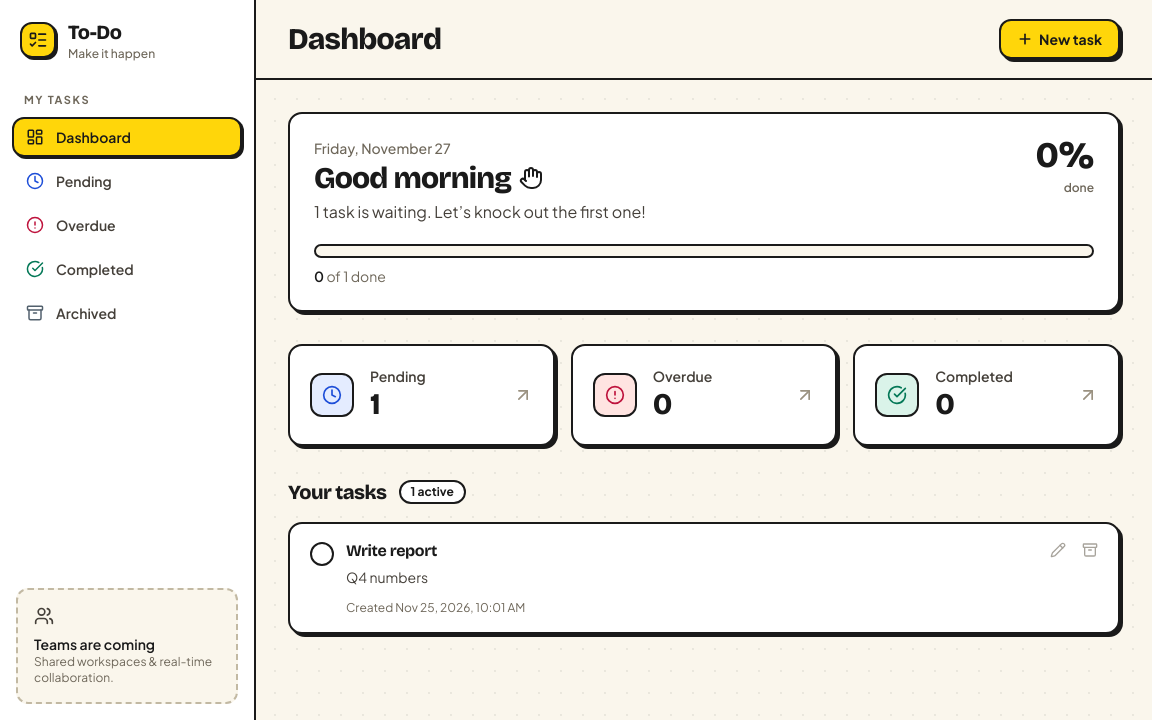
Test: editing a task › saves changes, updates the card and shows an "Edited" time
Expected: the heading "Write report" is shown, top-left (346, 540), bottom-right (437, 560)
Click the button named "Edit \"Write report\"" at (1058, 550), box top-left (1042, 534), bottom-right (1074, 566)
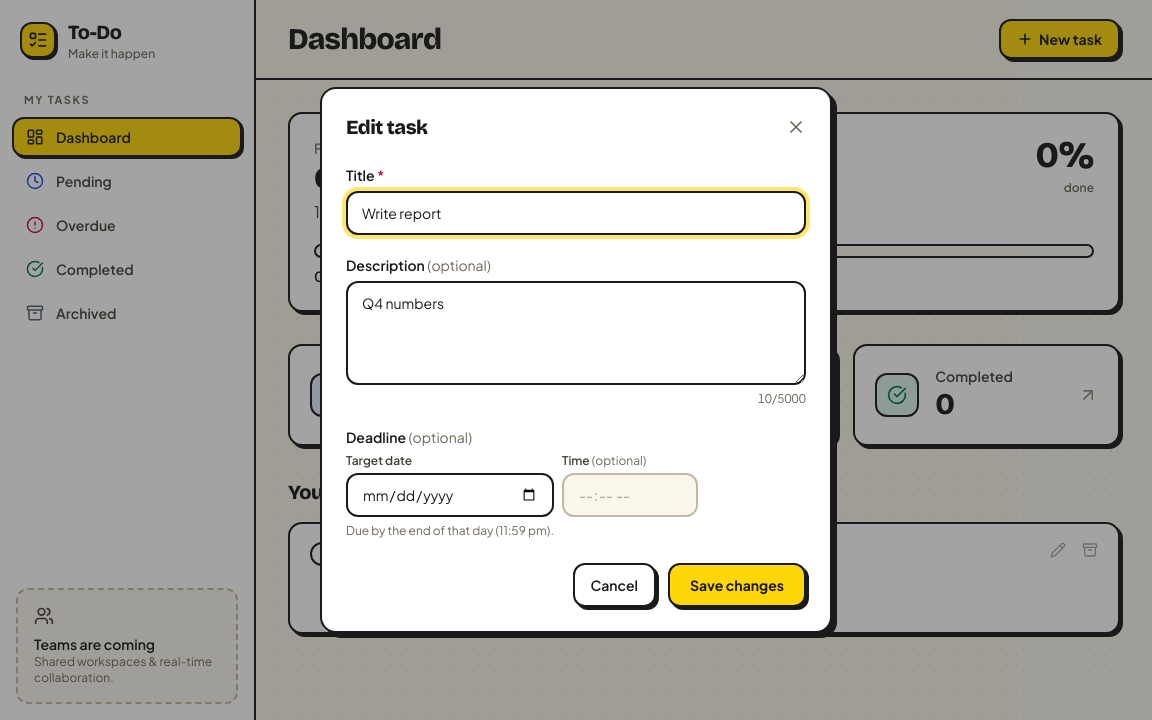
Replace the text in the field labelled "Title *" with "Write final report" at (576, 213), box top-left (346, 191), bottom-right (806, 235)
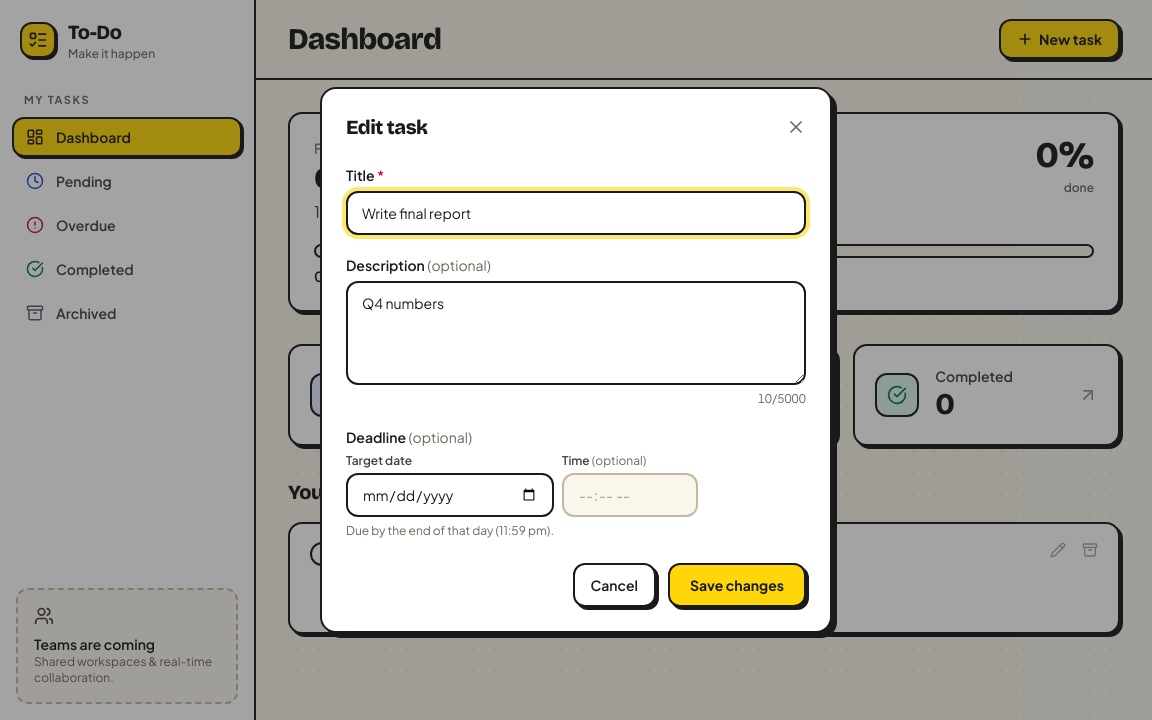
Replace the text in the text box labelled "Description (optional)" with "Q4 numbers + summary" at (576, 333), box top-left (346, 281), bottom-right (806, 385)
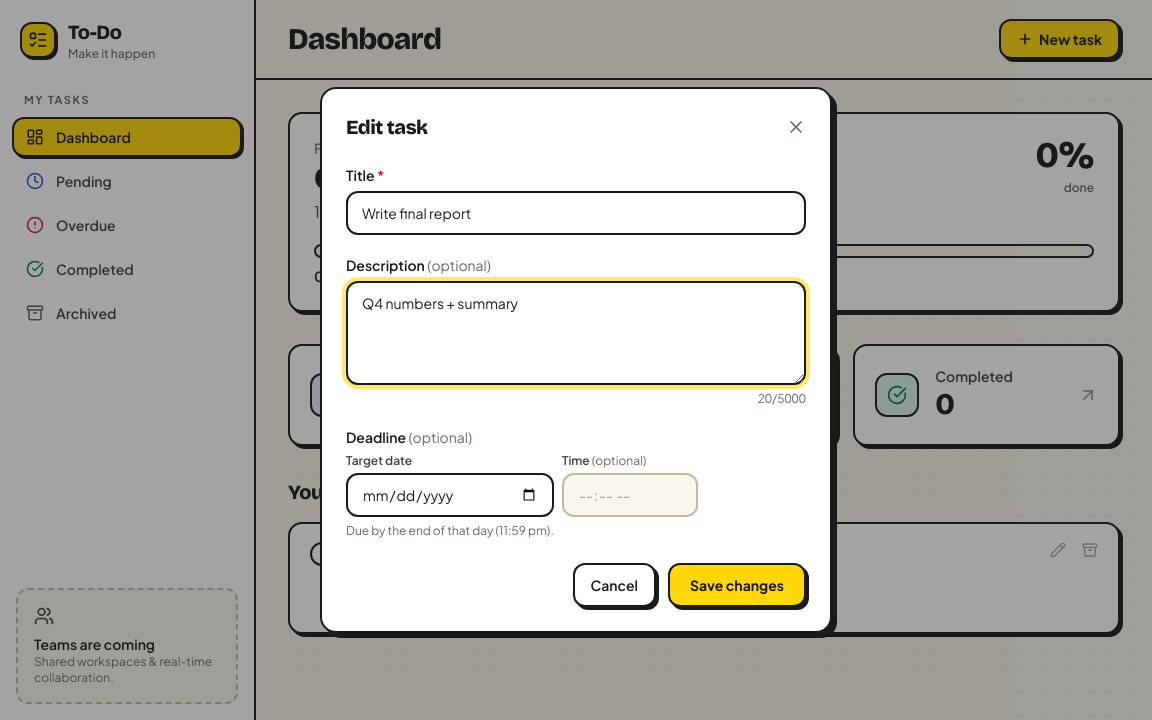
Click the button "Save changes" at (737, 585), box top-left (668, 563), bottom-right (806, 607)
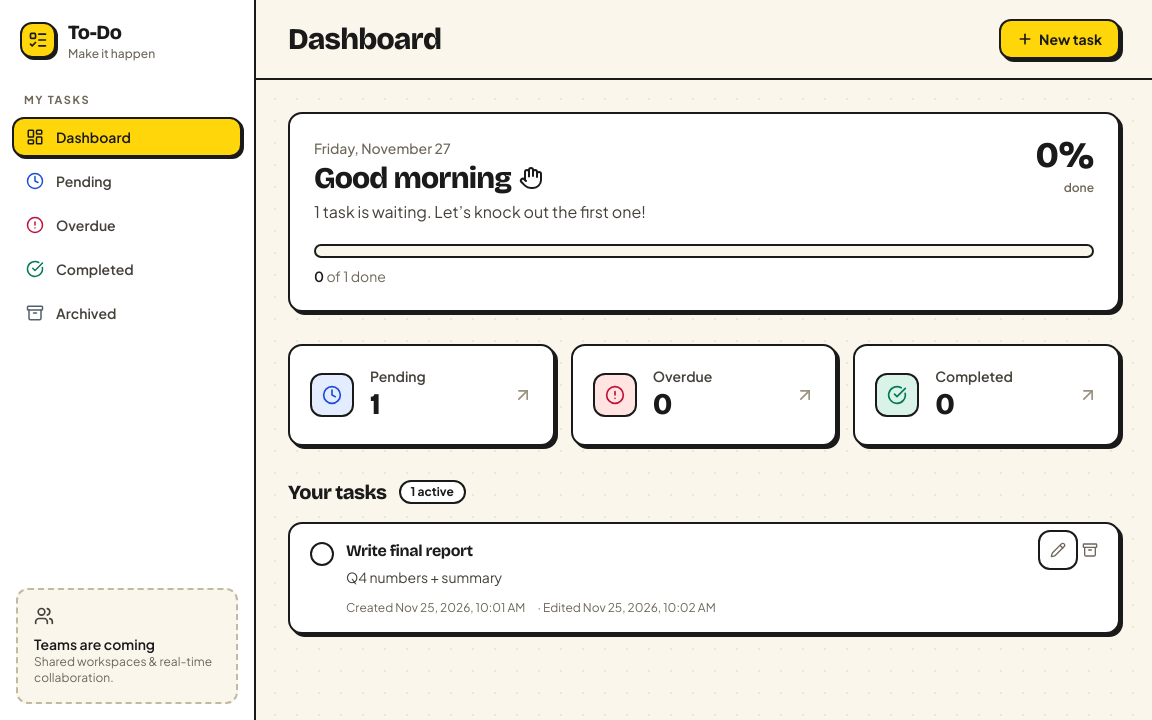
Expected: the dialog is gone
Expected: the heading "Write final report" is shown, top-left (346, 540), bottom-right (473, 560)
Expected: the text "Q4 numbers + summary" is shown, top-left (346, 568), bottom-right (502, 586)
